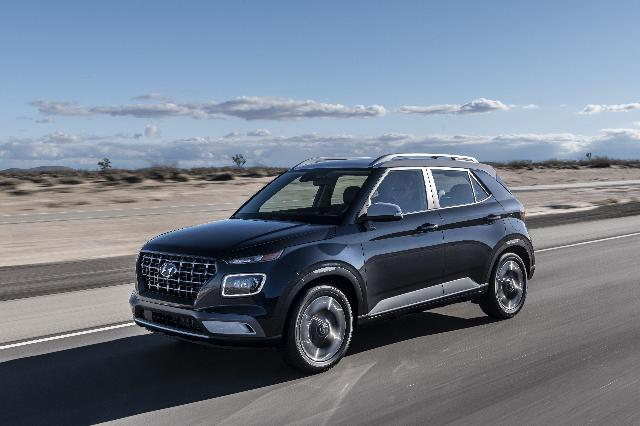hyundai: (128, 153, 536, 373)
